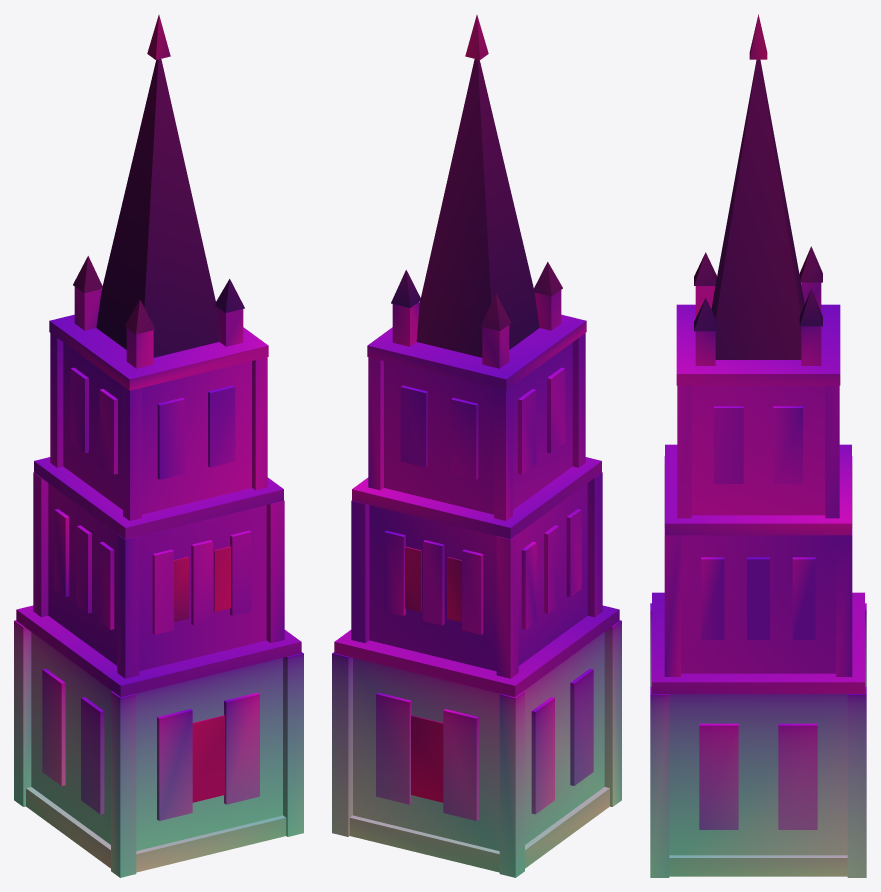
Rendered from spire_tower_a.glb.
3 views of the same model, side by side, from view 1: azimuth 30°, elevation 25°; view 2: azimuth 150°, elevation 25°; view 3: azimuth 270°, elevation 25° (orthographic).
Parts seen in each view (by area): view 1: tower_body, tower_niches, tower_trim, tower_roof, tower_windows, tower_gild; view 2: tower_body, tower_niches, tower_trim, tower_roof, tower_windows, tower_gild; view 3: tower_body, tower_trim, tower_niches, tower_roof, tower_gild.
Part boxes in pixels (x1,y1,x2,y2): tower_body: (14, 333, 303, 877); tower_niches: (42, 367, 259, 820); tower_trim: (16, 287, 301, 872); tower_roof: (73, 59, 244, 357); tower_windows: (174, 546, 230, 802); tower_gild: (147, 15, 170, 59); tower_body: (332, 333, 621, 877); tower_niches: (376, 367, 593, 820); tower_trim: (334, 290, 619, 872); tower_roof: (391, 59, 562, 357); tower_windows: (405, 546, 461, 802); tower_gild: (465, 15, 488, 59); tower_body: (650, 385, 866, 877); tower_trim: (652, 282, 864, 876); tower_niches: (699, 406, 817, 829); tower_roof: (694, 59, 822, 359); tower_gild: (749, 14, 767, 59).
Size of the model in its own units: 8.4 by 35.09 by 8.4.
